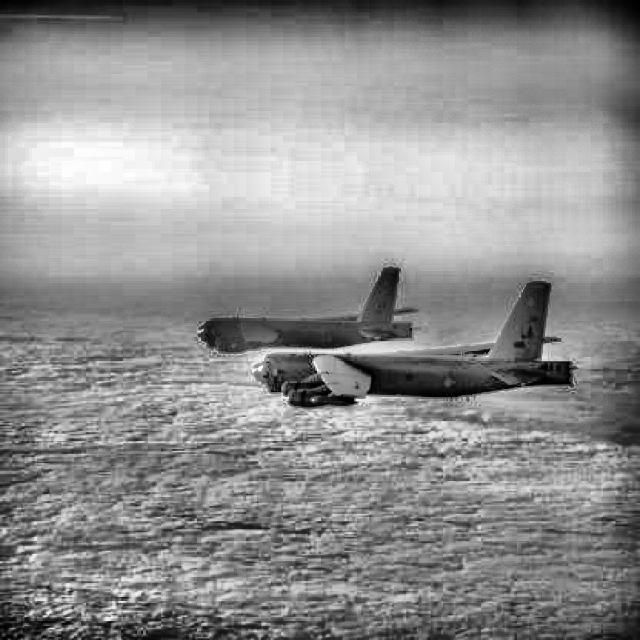B52: (252, 282, 578, 409), (196, 268, 421, 354)
